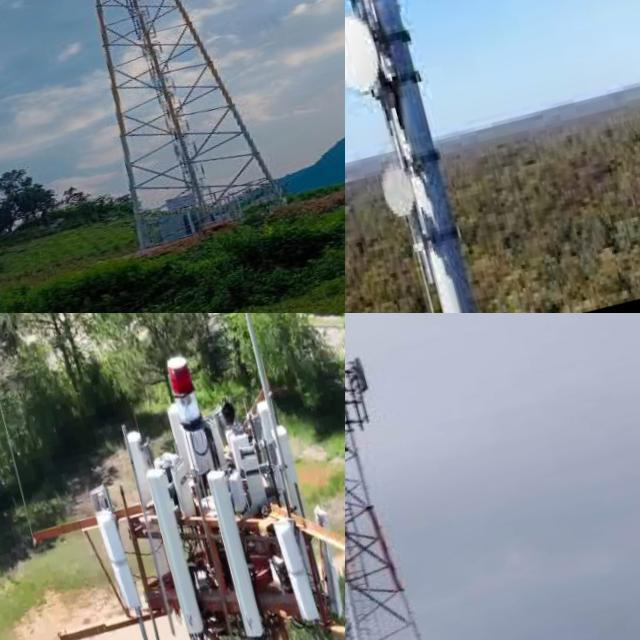GSM Antenna: (136, 462, 218, 640), (195, 458, 275, 640), (89, 497, 155, 622), (266, 511, 329, 627), (304, 500, 345, 622), (347, 347, 378, 395)
Microwave Antenna: (345, 0, 405, 103), (374, 151, 433, 232)
